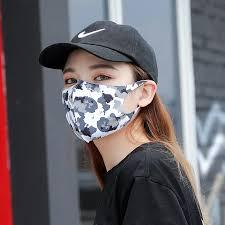cap: (35, 15, 164, 78)
mask: (60, 79, 155, 142)
